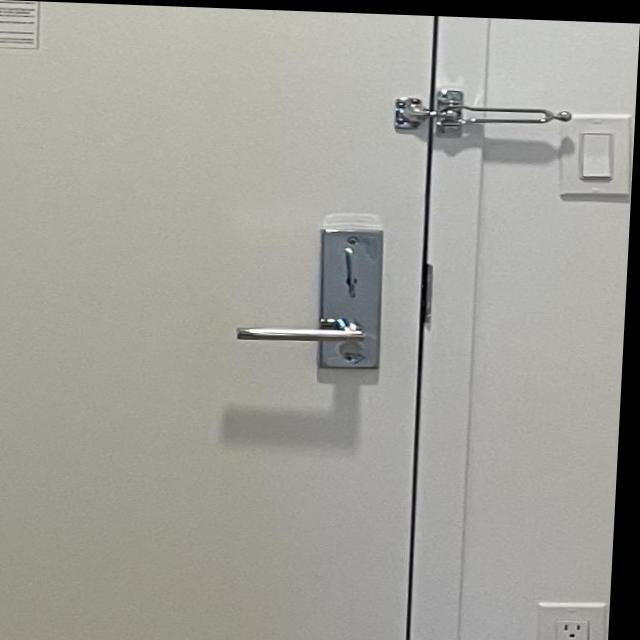door_handle: (225, 304, 393, 363)
